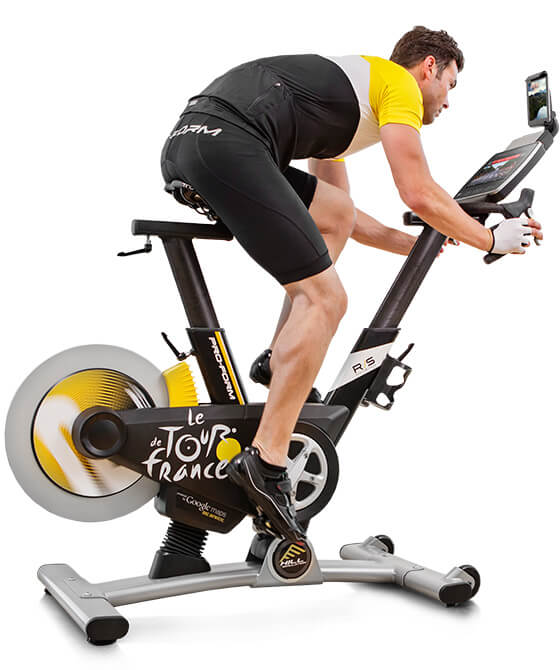gym_bike: (15, 71, 560, 637)
